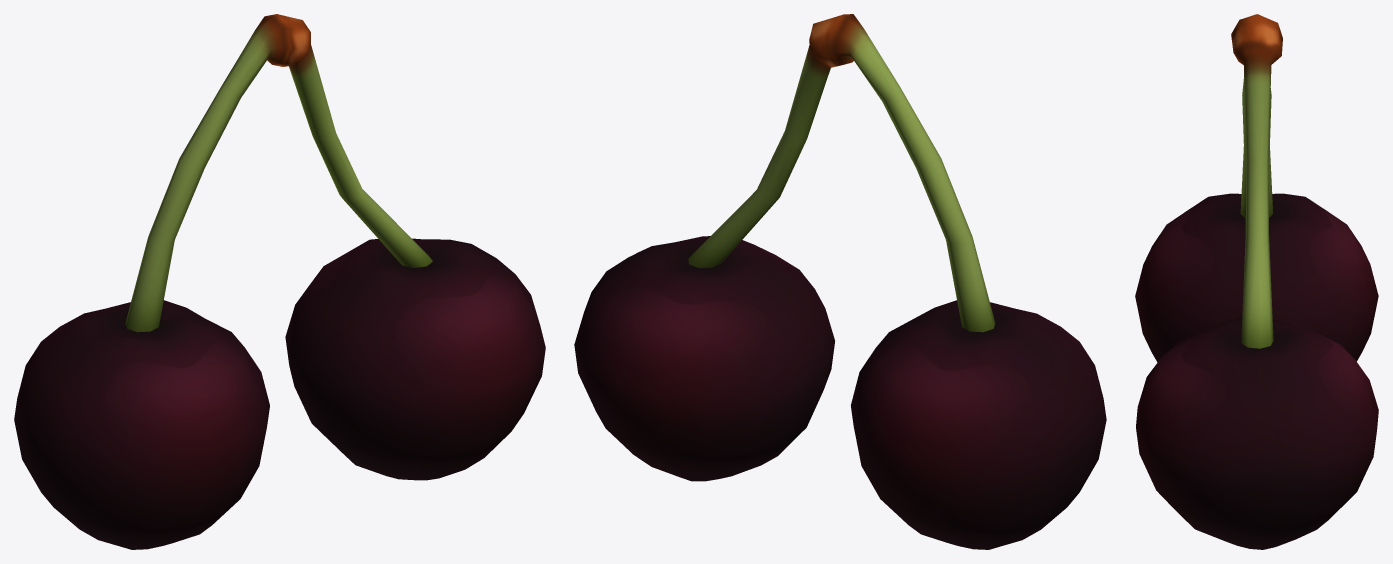
The model's file is Cherries_Black.fbx.
The picture shows the model from 3 angles, left to right: view 1: azimuth 30°, elevation 25°; view 2: azimuth 150°, elevation 25°; view 3: azimuth 270°, elevation 25°; orthographic projection. The views are drawn at different scales.
Visible parts, largest first — view 1: Cherries_Black; view 2: Cherries_Black; view 3: Cherries_Black.
Boxes of the visible parts, x1,y1,x2,y2 form: Cherries_Black: [14, 14, 545, 549]; Cherries_Black: [574, 14, 1106, 549]; Cherries_Black: [1135, 14, 1378, 549].
Bounding box in the file's own units: 32.21 × 30.46 × 14.52.
